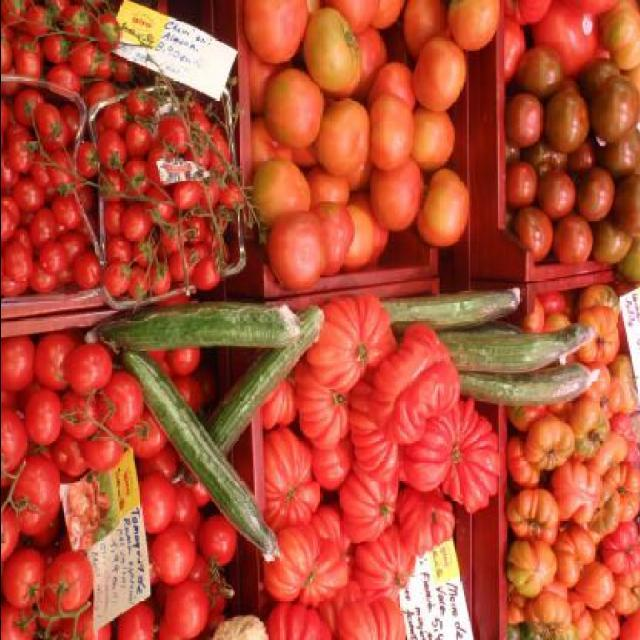Tomato: (2, 0, 640, 638), (59, 348, 113, 410)
